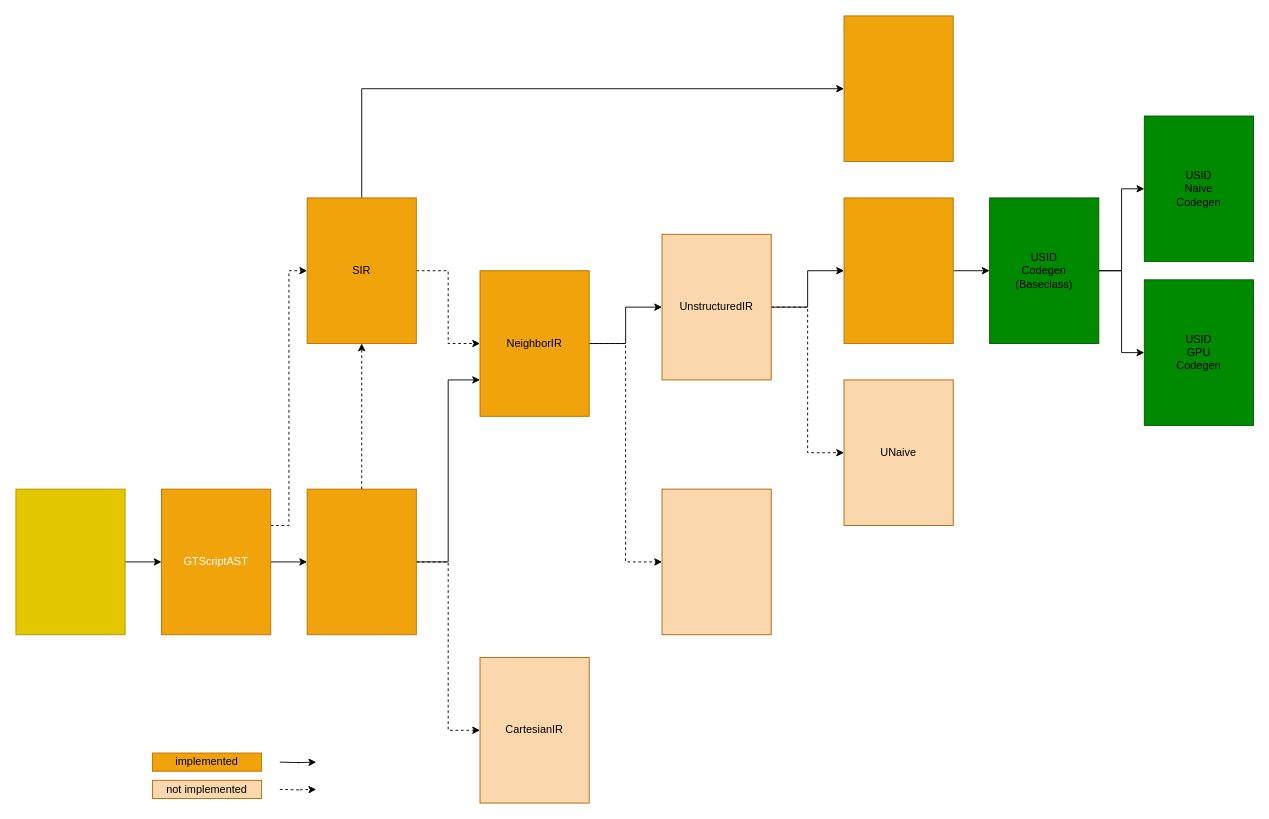
Some shapes in this 1269 by 819 pixel diagram are drawn without their labels. Each missing label, with the centre of its shape:
Dawn Naive: point (898, 88)
GTIR: point (361, 561)
GTScript: point (70, 561)
StructuredIR: point (716, 561)
USID: point (898, 270)
